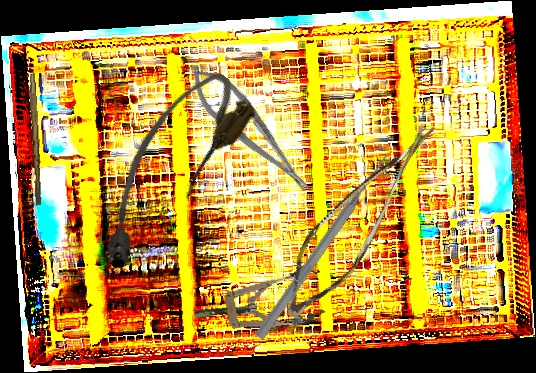Cannula: (69, 58, 264, 281)
Micro Scissor: (273, 95, 437, 338)
Needle Holder: (176, 53, 323, 206)
Pusher: (253, 151, 393, 342)
Scalpel Handle: (25, 73, 45, 206)
Speculum: (190, 263, 328, 342)
